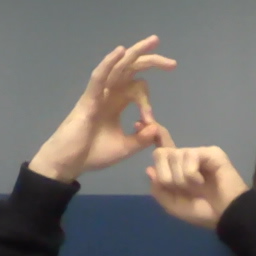Q: (47, 33, 227, 226)
